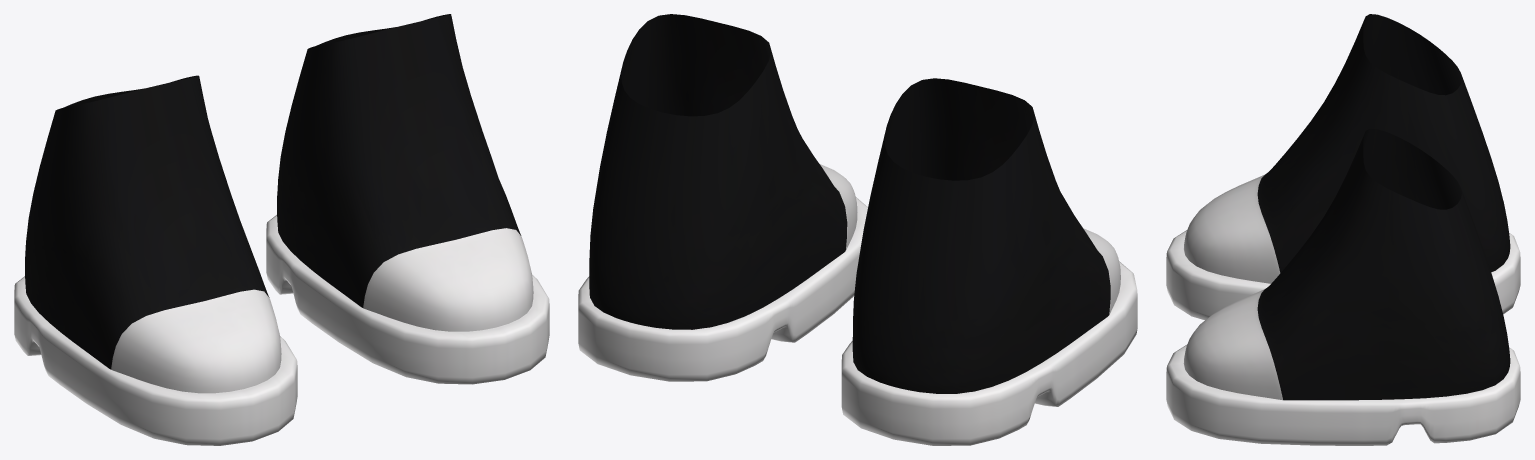
The model's file is Chunky Sneakers.glb.
3 renders of one model, left to right at view 1: azimuth 30°, elevation 25°; view 2: azimuth 150°, elevation 25°; view 3: azimuth 270°, elevation 25°, orthographic. The views are drawn at different scales.
Parts seen in each view (by area): view 1: Shoes; view 2: Shoes; view 3: Shoes.
Part boxes in pixels (left/top/right/bottom): Shoes: left=14, top=14, right=549, bottom=445; Shoes: left=578, top=14, right=1137, bottom=445; Shoes: left=1166, top=14, right=1520, bottom=445.
Size of the model in its own units: 0.461 by 0.2869 by 0.354.
Materials: 1 (1 with a texture image).
